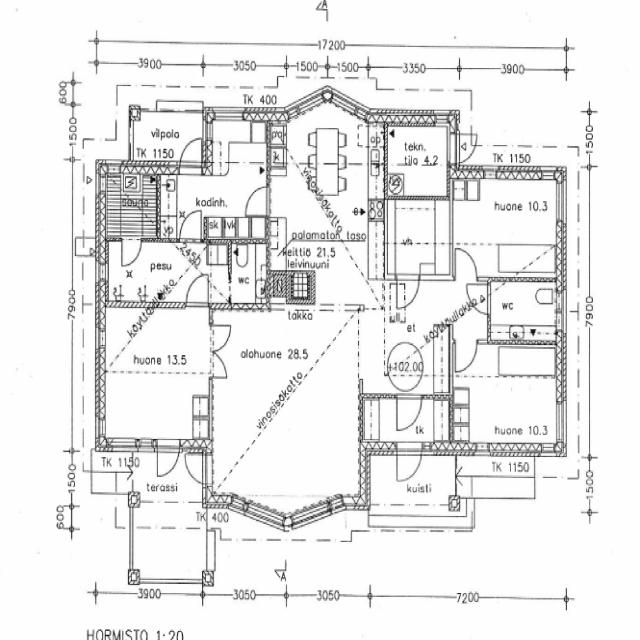door: (394, 441, 424, 486), (394, 392, 424, 433), (154, 438, 181, 482), (210, 320, 232, 374), (451, 336, 479, 376), (452, 243, 480, 282), (243, 181, 271, 218), (183, 446, 207, 488), (465, 280, 492, 317), (178, 134, 203, 172), (396, 273, 421, 310), (184, 272, 210, 307), (119, 234, 144, 268), (178, 209, 204, 241), (210, 343, 228, 379), (457, 132, 477, 163)
window: (292, 87, 331, 109), (554, 177, 568, 228), (554, 284, 567, 338), (553, 396, 567, 445), (108, 435, 142, 453), (213, 107, 245, 121), (540, 443, 557, 457)
zone: (269, 120, 385, 268), (98, 305, 213, 444), (450, 345, 561, 454), (450, 175, 562, 272), (202, 116, 269, 223), (105, 239, 210, 307), (384, 197, 453, 277), (386, 123, 452, 197), (489, 279, 560, 344), (130, 109, 205, 165), (454, 456, 538, 496), (228, 239, 268, 311), (209, 262, 231, 304)
